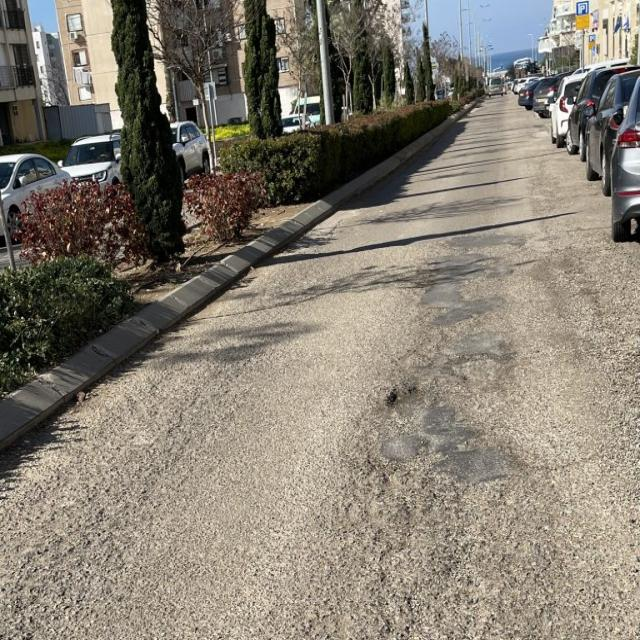medium_pothole: (383, 378, 418, 406)
